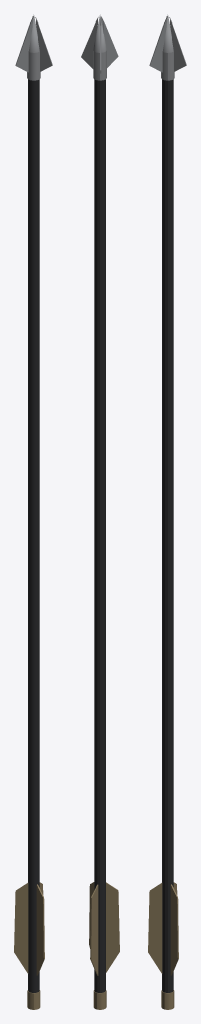
The model's file is mod_thorn_broadhead_arrow.glb.
The picture shows the model from 3 angles, left to right: view 1: azimuth 90°, elevation 25°; view 2: azimuth 150°, elevation 25°; view 3: azimuth 330°, elevation 25°; orthographic projection.
Visible parts, largest first — view 1: BroadheadArrow, BroadheadArrowHead; view 2: BroadheadArrow, BroadheadArrowHead; view 3: BroadheadArrow, BroadheadArrowHead.
Boxes of the visible parts, x1,y1,x2,y2 form: BroadheadArrow: (14, 79, 44, 1009); BroadheadArrowHead: (15, 14, 52, 80); BroadheadArrow: (89, 79, 119, 1009); BroadheadArrowHead: (81, 14, 118, 80); BroadheadArrow: (148, 79, 178, 1009); BroadheadArrowHead: (149, 14, 186, 80).
Size of the model in its own units: 0.0253 by 0.716 by 0.0255.
